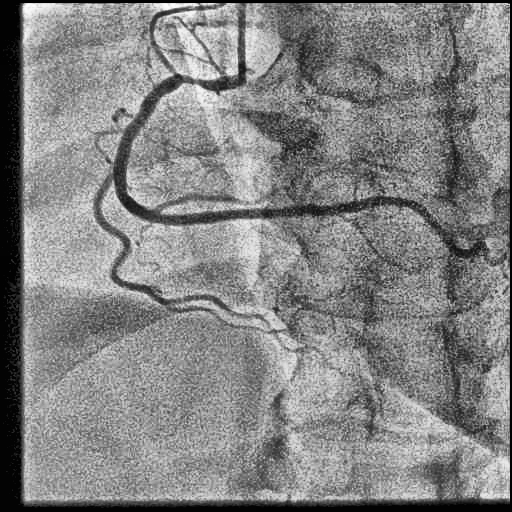pda: (456, 242, 508, 275)
rca: (113, 74, 457, 253)
